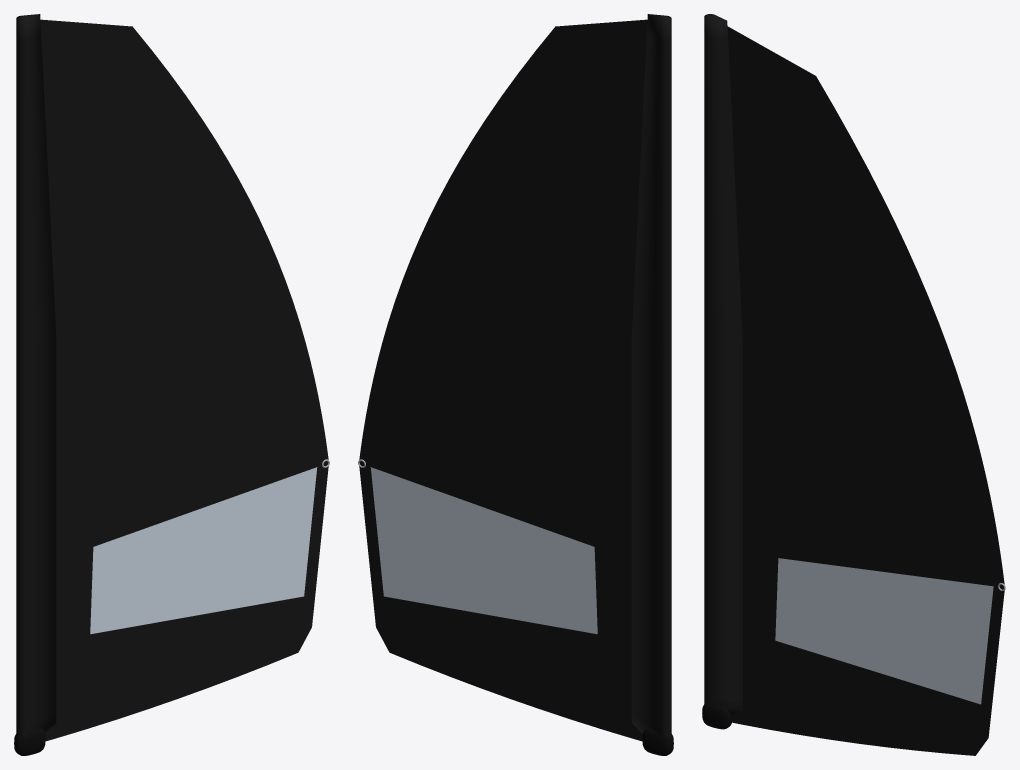
The model's file is nielstrots_slalom_6_5.glb.
3 views of the same model, side by side, from view 1: azimuth 30°, elevation 25°; view 2: azimuth 150°, elevation 25°; view 3: azimuth 330°, elevation 25° (orthographic). The views are drawn at different scales.
Parts seen in each view (by area): view 1: SailCloth, TackFairing; view 2: SailCloth, TackFairing; view 3: SailCloth, TackFairing.
Boxes of the visible parts, left/top/right/bottom form: SailCloth: left=16, top=14, right=328, bottom=741; TackFairing: left=14, top=729, right=45, bottom=755; SailCloth: left=359, top=14, right=671, bottom=741; TackFairing: left=642, top=729, right=673, bottom=755; SailCloth: left=704, top=14, right=1004, bottom=755; TackFairing: left=702, top=704, right=731, bottom=729.
Size of the model in its own units: 1.97 by 4.43 by 0.08.
